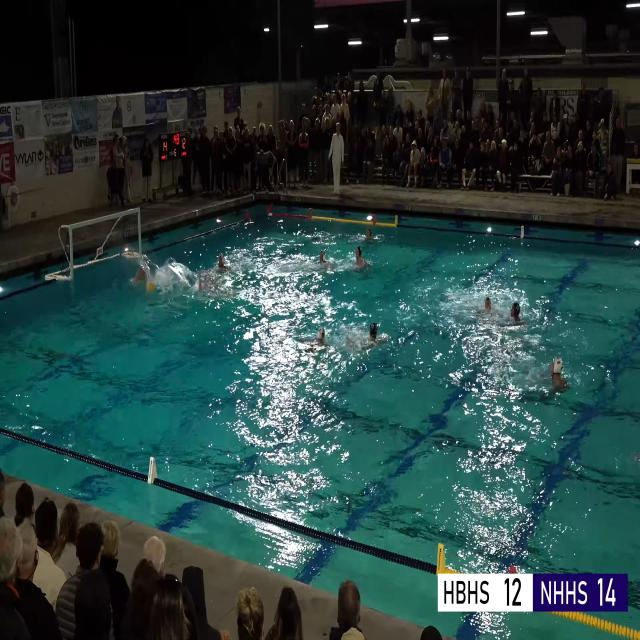ball: (147, 281, 154, 292)
